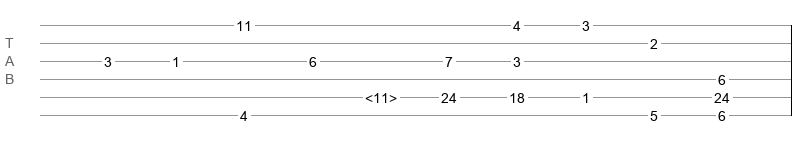1: (172, 54, 180, 64), (582, 90, 590, 100)
11: (236, 18, 252, 28)
18: (509, 90, 525, 100)
2: (650, 36, 658, 46)
24: (441, 90, 457, 100), (714, 90, 730, 100)
3: (104, 54, 112, 64), (513, 54, 521, 64), (582, 18, 590, 28)
4: (240, 108, 248, 118), (513, 18, 521, 28)
5: (650, 108, 658, 118)
6: (309, 54, 317, 64), (718, 108, 726, 118), (718, 72, 726, 82)
7: (445, 54, 453, 64)
harmonic: (365, 90, 397, 100)
